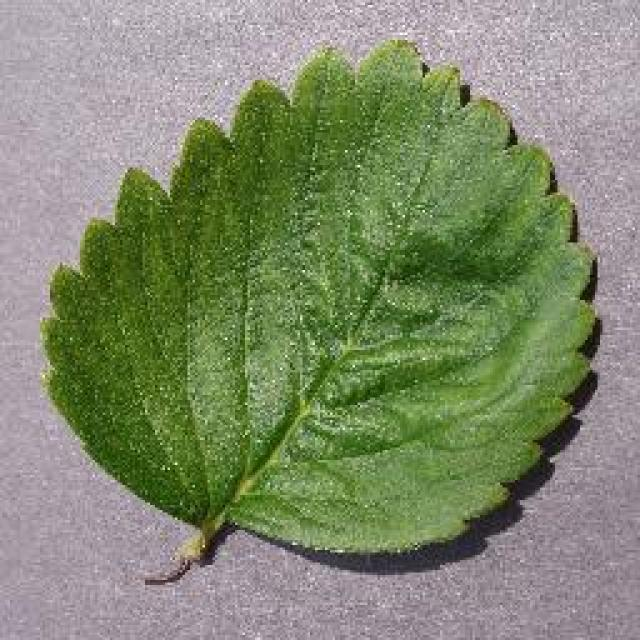Strawberry___healthy: (30, 15, 610, 605)
